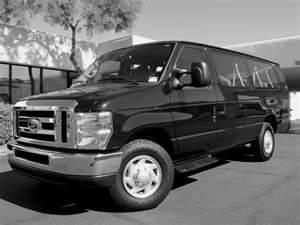car: (9, 41, 293, 212)
